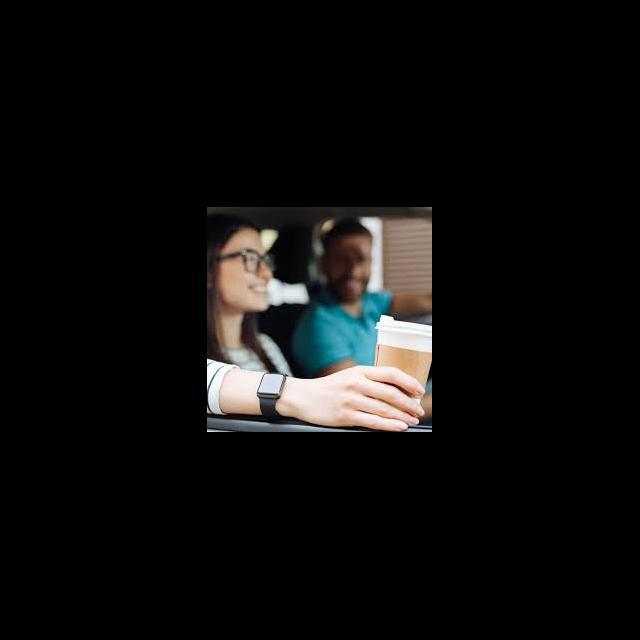watch: (254, 355, 298, 432)
